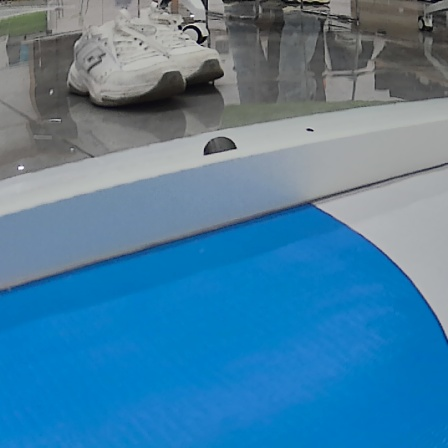blue_base: (1, 204, 448, 448)
